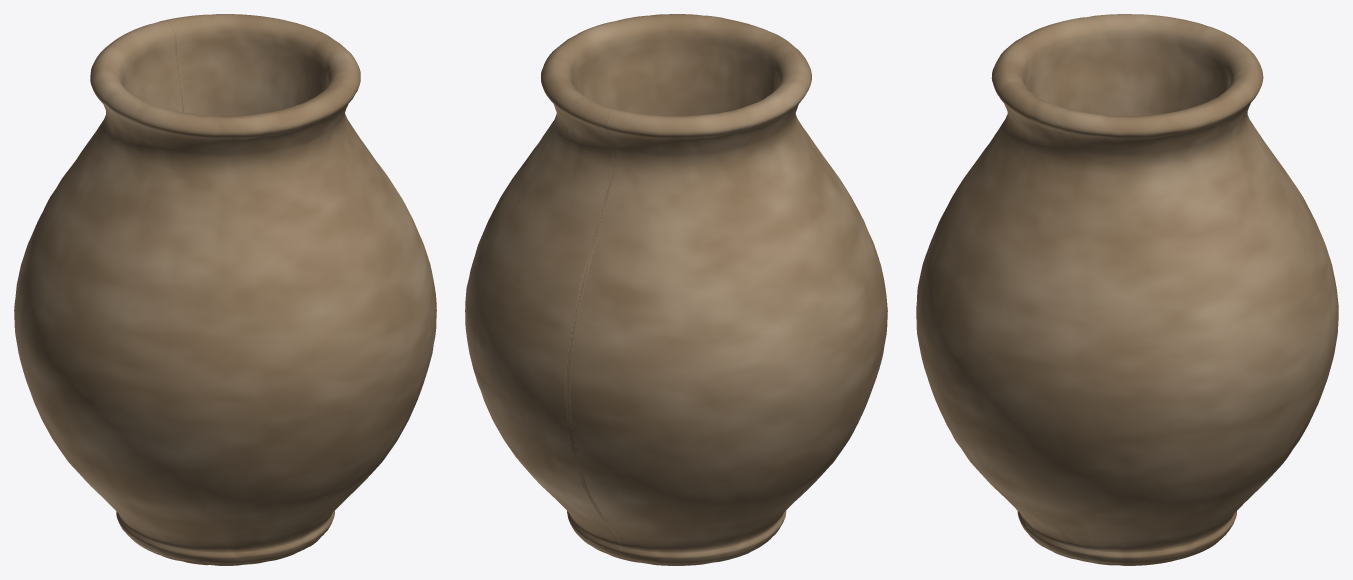
Rendered from photoreal_vase.glb.
The picture shows the model from 3 angles, left to right: view 1: azimuth 30°, elevation 25°; view 2: azimuth 150°, elevation 25°; view 3: azimuth 270°, elevation 25°; orthographic projection.
Parts seen in each view (by area): view 1: PhotorealVase; view 2: PhotorealVase; view 3: PhotorealVase.
Part boxes in pixels (x1,y1,x2,y2): PhotorealVase: (14,14,436,565); PhotorealVase: (465,14,887,565); PhotorealVase: (916,14,1338,565).
Bounding box in the file's own units: 0.2932 × 0.3505 × 0.2926.
1 material, 1 textured.
